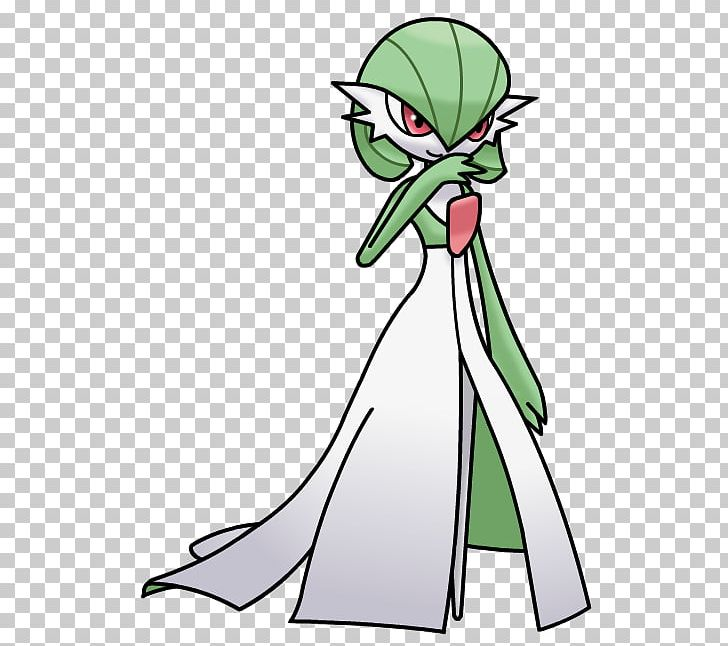gardevoir: (153, 25, 577, 621)
